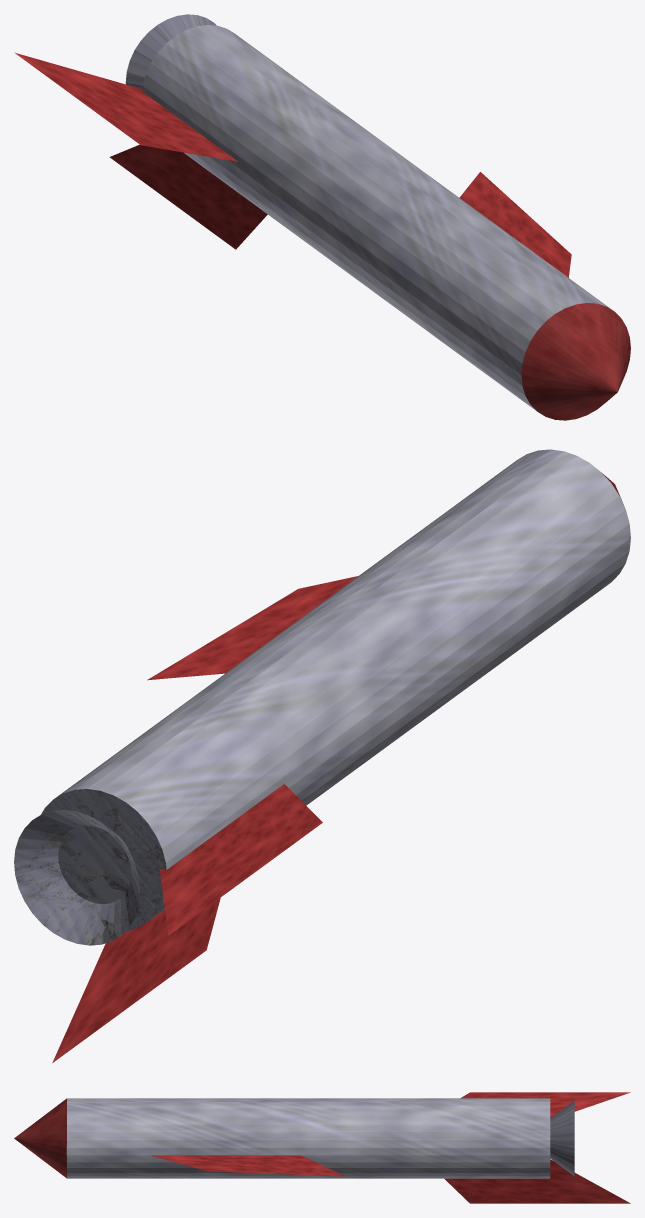
File: Missle.glb
The picture shows the model from 3 angles, top to bottom: view 1: azimuth 30°, elevation 25°; view 2: azimuth 150°, elevation 25°; view 3: azimuth 270°, elevation 25°; orthographic projection. The views are drawn at different scales.
Visible parts, largest first — view 1: Cylinder, Plane.001, Plane.002, Plane; view 2: Cylinder, Plane.002, Plane.001, Plane; view 3: Cylinder, Plane.001, Plane, Plane.002.
Part boxes in pixels (x1,y1,x2,y2): Cylinder: [125, 14, 630, 420]; Plane.001: [109, 144, 267, 249]; Plane.002: [14, 52, 237, 161]; Plane: [459, 172, 571, 277]; Cylinder: [14, 449, 630, 945]; Plane.002: [159, 784, 322, 935]; Plane.001: [52, 898, 220, 1062]; Plane: [147, 576, 357, 680]; Cylinder: [14, 1098, 574, 1178]; Plane.001: [444, 1159, 630, 1203]; Plane: [150, 1155, 344, 1176]; Plane.002: [460, 1092, 630, 1117].
Size of the model in its own units: 2.21 by 1.49 by 7.66.
2 materials, 2 textured.
